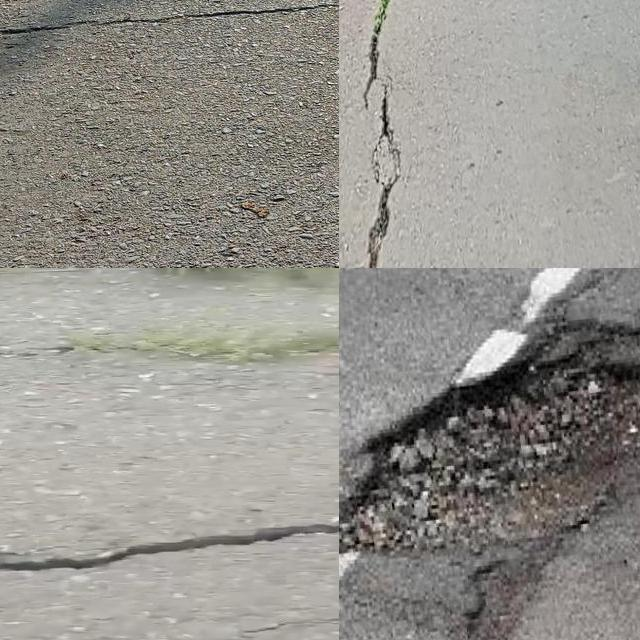Lubang: (339, 317, 640, 633)
Melintang: (0, 502, 339, 581), (0, 0, 339, 55)
Memanjang: (340, 0, 413, 268)
